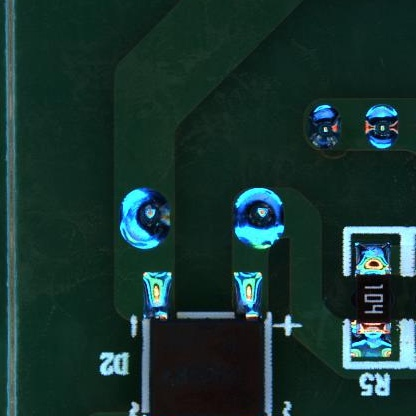spot: (119, 189, 170, 249), (235, 188, 284, 249), (364, 103, 399, 150), (310, 103, 341, 149)
